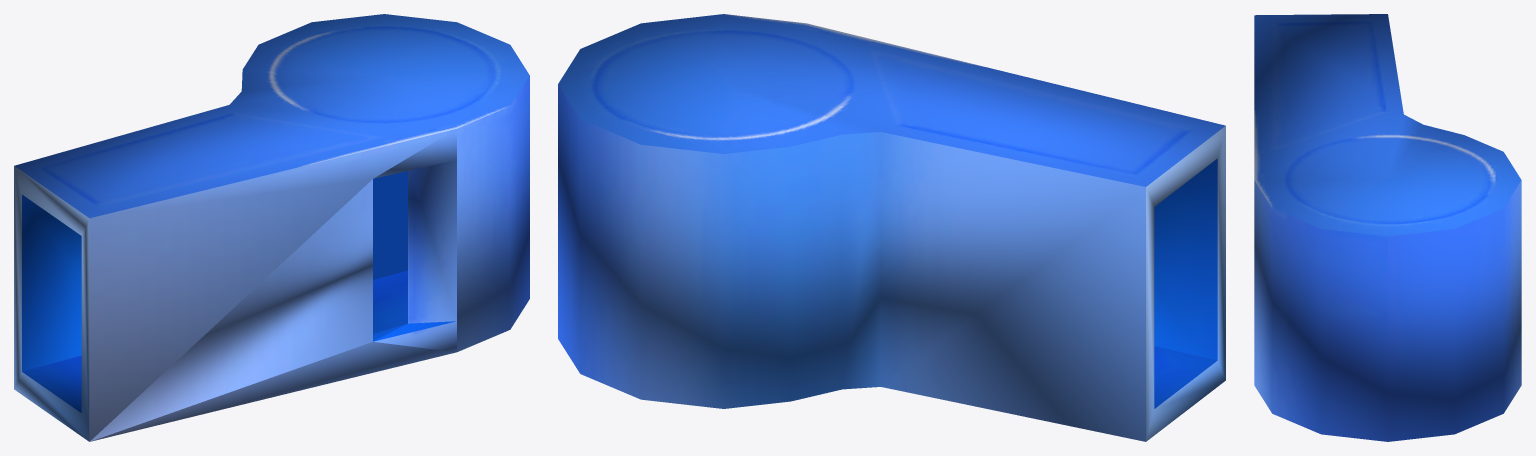
File: BlueWhistle.fbx
3 renders of one model, left to right at view 1: azimuth 30°, elevation 25°; view 2: azimuth 150°, elevation 25°; view 3: azimuth 270°, elevation 25°, orthographic. The views are drawn at different scales.
Visible parts, largest first — view 1: t2_m_ara_ext_whistle; view 2: t2_m_ara_ext_whistle; view 3: t2_m_ara_ext_whistle.
Boxes of the visible parts, bbox=[...] form: t2_m_ara_ext_whistle: bbox=[14, 14, 529, 441]; t2_m_ara_ext_whistle: bbox=[558, 14, 1225, 441]; t2_m_ara_ext_whistle: bbox=[1254, 14, 1521, 441].
Bounding box in the file's own units: 0.9851 × 0.4242 × 0.5.
